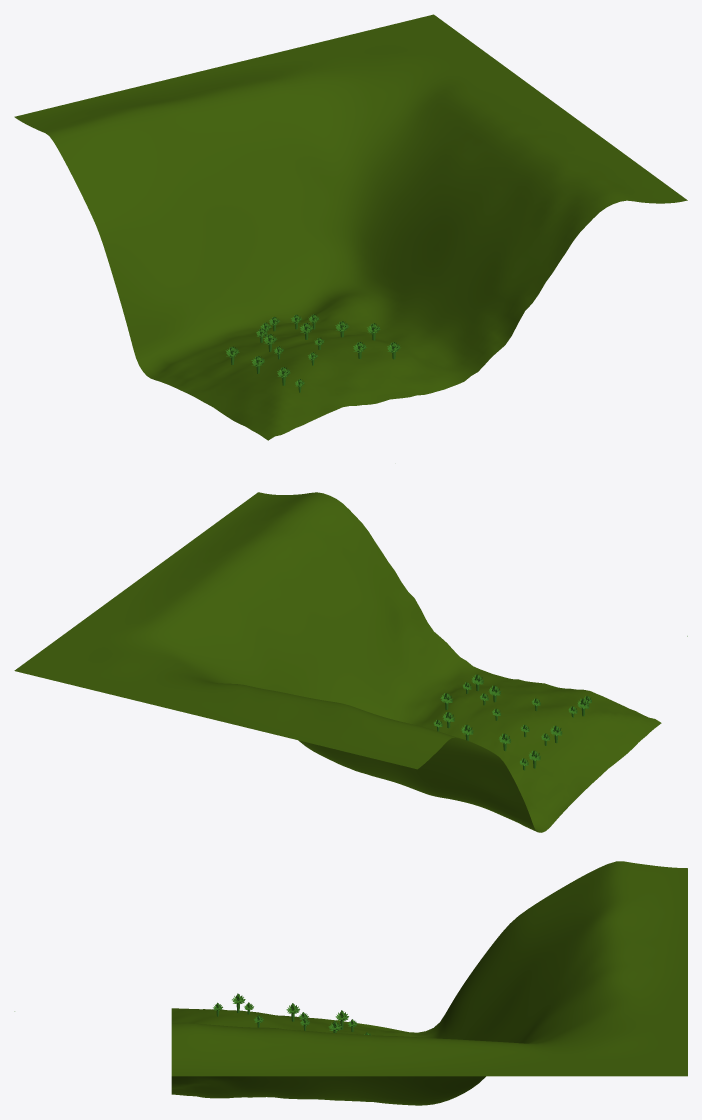
File: terreno izq abajo.fbx
3 renders of one model, top to bottom at view 1: azimuth 30°, elevation 25°; view 2: azimuth 150°, elevation 25°; view 3: azimuth 270°, elevation 25°, orthographic. The views are drawn at different scales.
Parts seen in each view (by area): view 1: abajo izq; view 2: abajo izq; view 3: abajo izq.
Boxes of the visible parts, box(x1,y1,x2,y2) form: abajo izq: box(14, 14, 687, 440); abajo izq: box(14, 492, 687, 832); abajo izq: box(14, 861, 687, 1105).
Bounding box in the file's own units: 30075 × 12127 × 41019.
